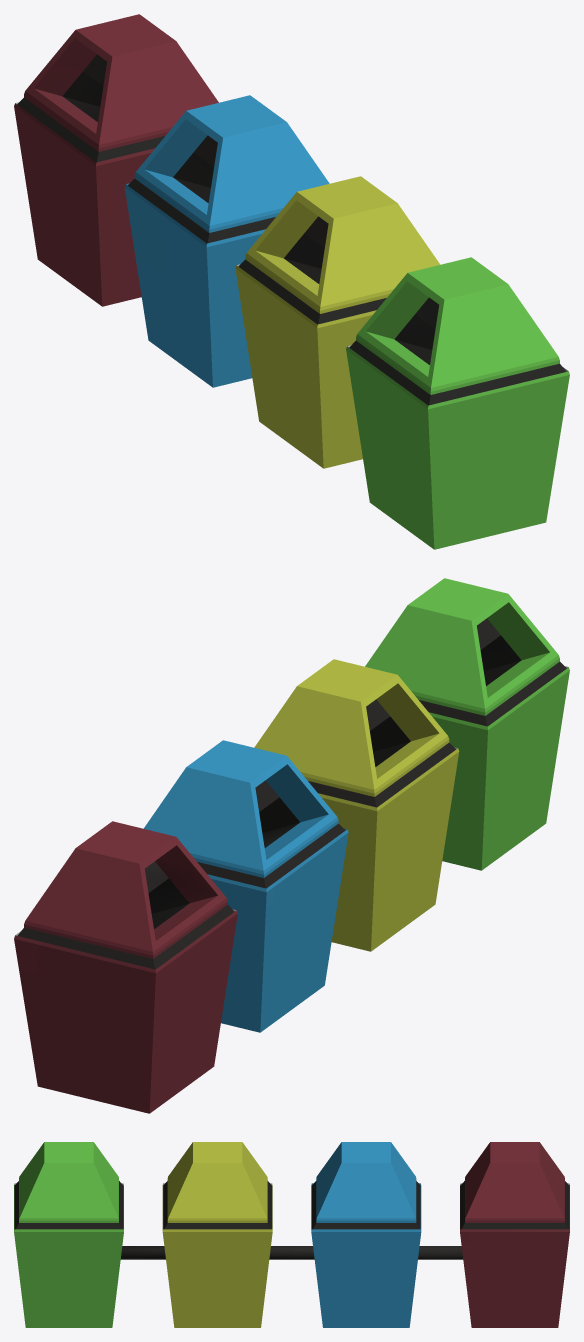
File: TI2 ASSETS.fbx_Trash_Cans.fbx
3 renders of one model, top to bottom at view 1: azimuth 30°, elevation 25°; view 2: azimuth 150°, elevation 25°; view 3: azimuth 270°, elevation 25°, orthographic. The views are drawn at different scales.
Visible parts, largest first — view 1: Trash Cans; view 2: Trash Cans; view 3: Trash Cans.
Part boxes in pixels (x1,y1,x2,y2): Trash Cans: (14, 14, 569, 549); Trash Cans: (14, 578, 569, 1113); Trash Cans: (14, 1142, 569, 1327).
Size of the model in its own units: 111 by 175 by 561.
